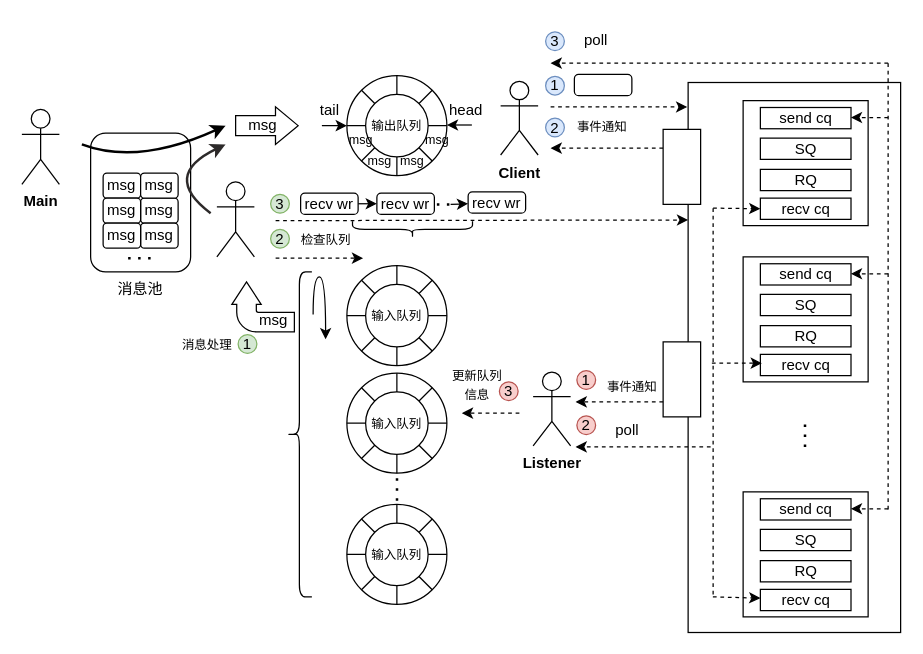
Some shapes in this 923 by 654 pixel diagram are drawn without their labels. Each missing label, with the centre of its shape:
"BatchingSize" goes at (411,229).
"send wr" goes at (602,84).
"Server" goes at (235,219).
"发送 完成 事件 通道" goes at (681,166).
"接收 完成事件 通道" goes at (681,379).
